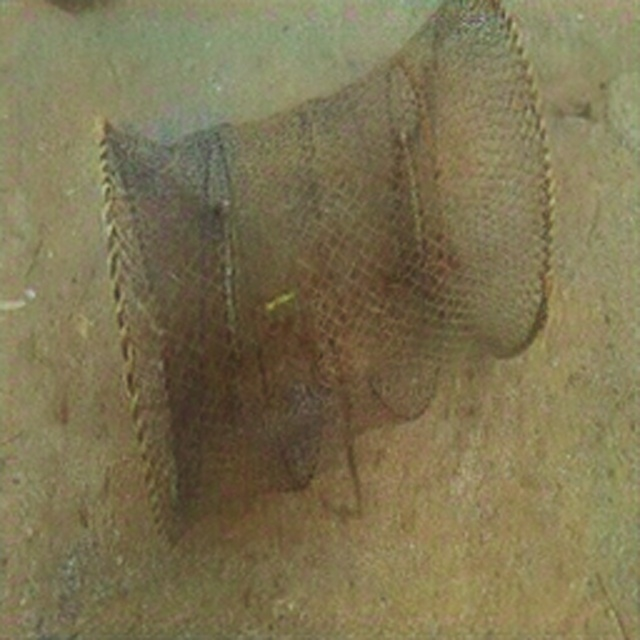mine: (95, 0, 555, 552)
